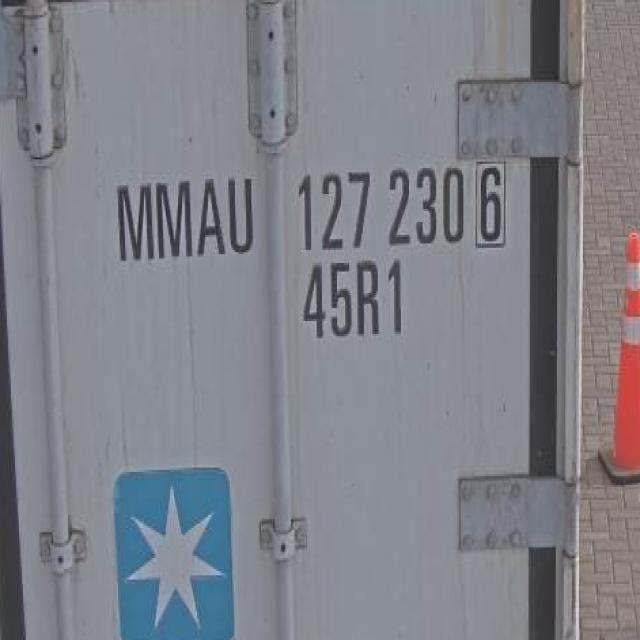dv: (472, 150, 511, 250)
owner: (112, 164, 262, 273)
serial: (293, 150, 469, 258)
size: (298, 259, 410, 345)
